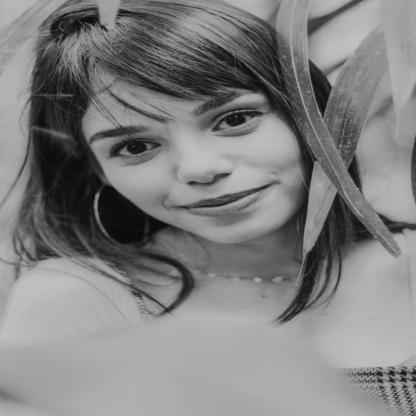Eye: (102, 133, 166, 167), (202, 108, 266, 138)
Mouth: (163, 182, 283, 223)
Nose: (166, 131, 238, 185)
